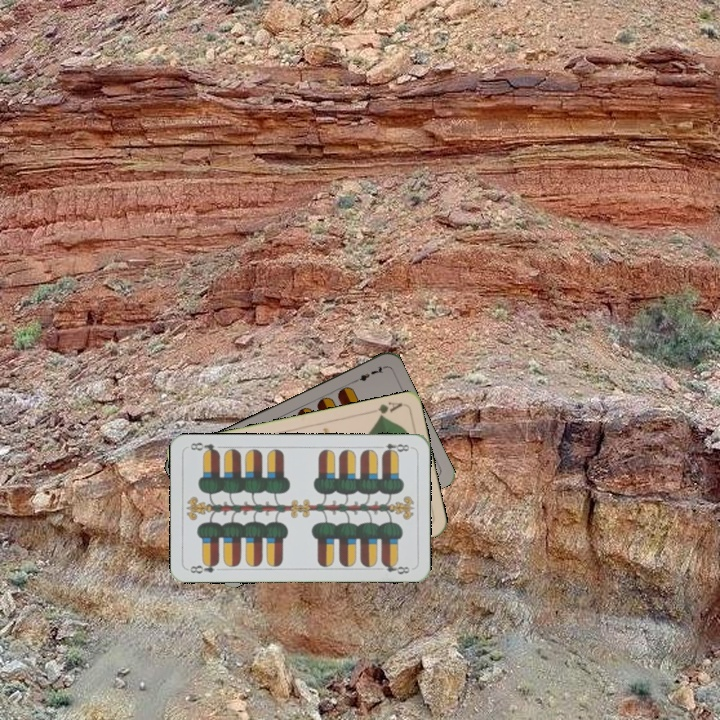E7: (349, 362, 387, 386)
E8: (373, 439, 412, 457), (186, 558, 222, 576)
GA: (374, 398, 405, 421)
